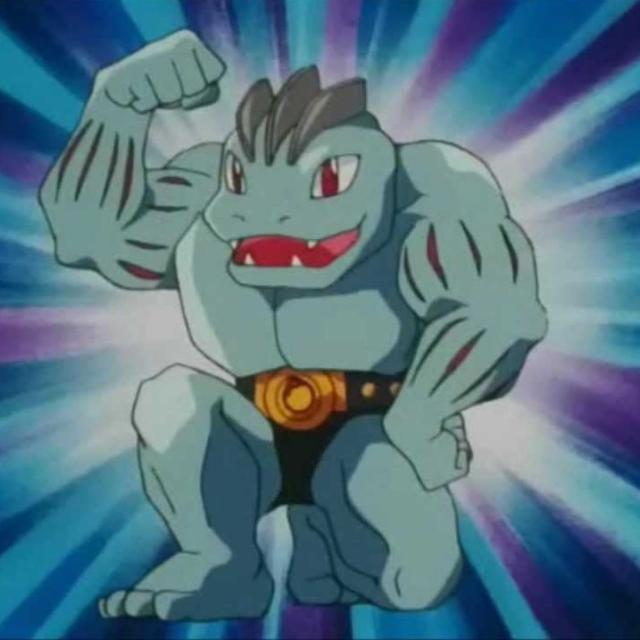Machoke: (97, 69, 538, 627)
